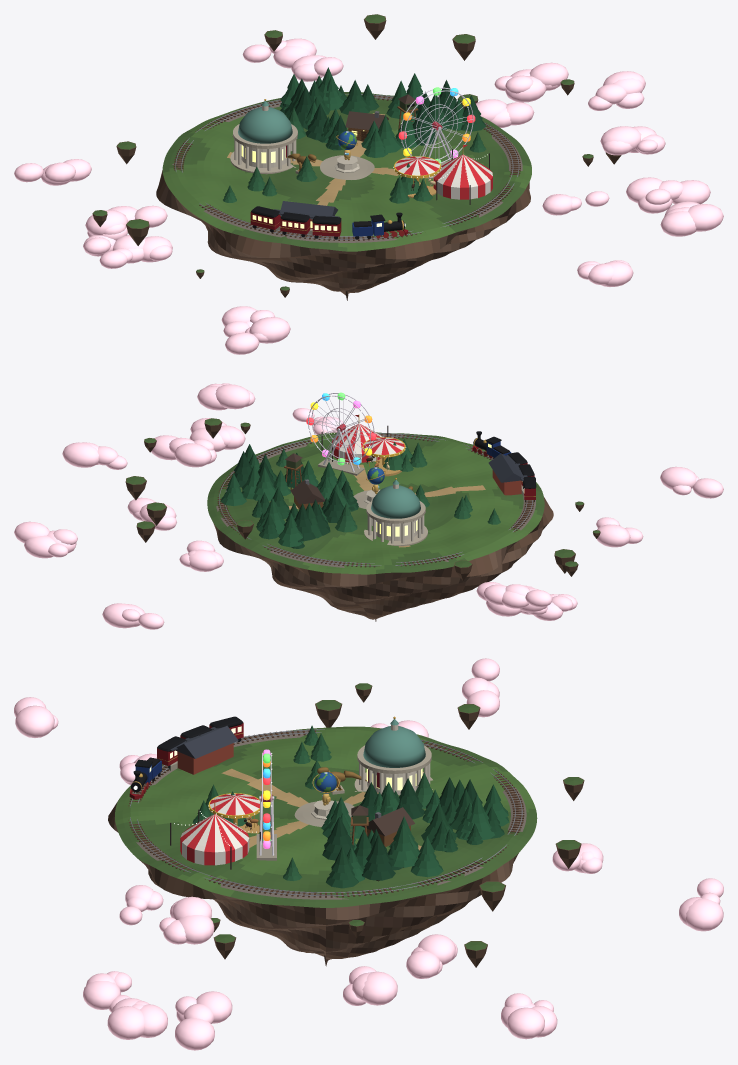
File: atlas.glb
3 renders of one model, top to bottom at view 1: azimuth 30°, elevation 25°; view 2: azimuth 150°, elevation 25°; view 3: azimuth 270°, elevation 25°, orthographic. The views are drawn at different scales.
Parts seen in each view (by area): view 1: terrain, pines, museum, track, spin_z_0.6_train_noshadow, tent, bob_cloud15_noshadow, spin_y_1.6_ferris_noshadow, bob_cloud6_noshadow, bob_cloud7_noshadow, bob_cloud13_noshadow, bob_cloud5_noshadow (+14 smaller); view 2: terrain, pines, museum, track, spin_y_1.6_ferris_noshadow, bob_cloud6_noshadow, bob_cloud15_noshadow, bob_cloud2_noshadow, bob_cloud13_noshadow, bob_cloud14_noshadow, bob_cloud12_noshadow, spin_z_0.6_train_noshadow (+13 smaller); view 3: terrain, pines, track, museum, tent, bob_cloud15_noshadow, station, bob_cloud12_noshadow, spin_z_0.6_train_noshadow, bob_cloud7_noshadow, bob_cloud6_noshadow, bob_cloud3_noshadow (+11 smaller).
Part boxes in pixels (bbox=[...]): terrain: bbox=[156, 92, 531, 300]; pines: bbox=[223, 67, 486, 203]; museum: bbox=[230, 99, 297, 174]; track: bbox=[172, 93, 522, 242]; spin_z_0.6_train_noshadow: bbox=[250, 206, 408, 239]; tent: bbox=[433, 144, 492, 204]; bob_cloud15_noshadow: bbox=[626, 177, 710, 213]; spin_y_1.6_ferris_noshadow: bbox=[398, 87, 475, 163]; bob_cloud6_noshadow: bbox=[494, 62, 568, 102]; bob_cloud7_noshadow: bbox=[660, 201, 723, 236]; bob_cloud13_noshadow: bbox=[588, 71, 645, 110]; bob_cloud5_noshadow: bbox=[99, 235, 172, 268]; terrain: bbox=[207, 432, 553, 621]; pines: bbox=[220, 439, 500, 548]; museum: bbox=[364, 478, 427, 546]; track: bbox=[216, 433, 535, 567]; spin_y_1.6_ferris_noshadow: bbox=[306, 392, 376, 465]; bob_cloud6_noshadow: bbox=[14, 521, 77, 558]; bob_cloud15_noshadow: bbox=[151, 435, 216, 467]; bob_cloud2_noshadow: bbox=[660, 466, 723, 498]; bob_cloud13_noshadow: bbox=[62, 442, 127, 469]; bob_cloud14_noshadow: bbox=[483, 584, 552, 608]; bob_cloud12_noshadow: bbox=[197, 383, 255, 410]; spin_z_0.6_train_noshadow: bbox=[472, 431, 536, 501]; terrain: bbox=[108, 726, 537, 966]; pines: bbox=[192, 725, 509, 888]; track: bbox=[128, 729, 526, 899]; museum: bbox=[354, 716, 432, 795]; tent: bbox=[170, 802, 260, 869]; bob_cloud15_noshadow: bbox=[175, 991, 232, 1050]; station: bbox=[167, 725, 238, 774]; bob_cloud12_noshadow: bbox=[159, 896, 214, 944]; spin_z_0.6_train_noshadow: bbox=[129, 716, 243, 799]; bob_cloud7_noshadow: bbox=[107, 998, 167, 1039]; bob_cloud6_noshadow: bbox=[501, 993, 557, 1039]; bob_cloud3_noshadow: bbox=[679, 878, 723, 931].
Size of the model in its own units: 123 by 43.77 by 113.
